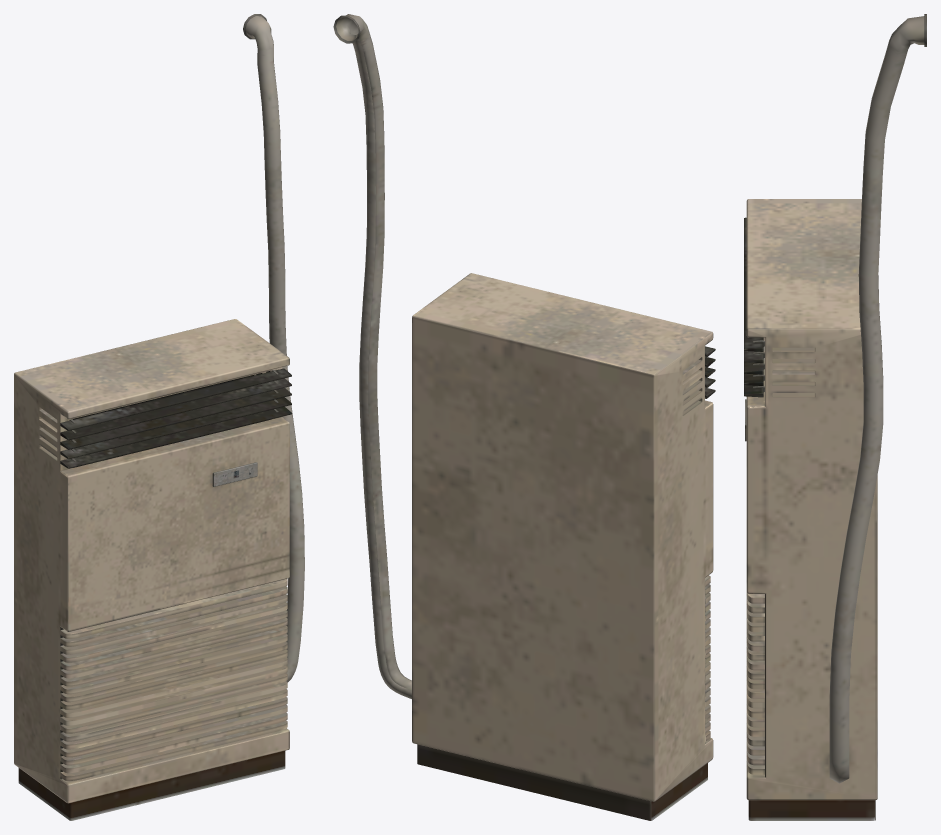
Rendered from 004_OfficeCooler.fbx.
3 views of the same model, side by side, from view 1: azimuth 30°, elevation 25°; view 2: azimuth 150°, elevation 25°; view 3: azimuth 270°, elevation 25° (orthographic). The views are drawn at different scales.
Parts seen in each view (by area): view 1: LOD_1_Group_0_Sub_1__sm31_004_OfficeCooler01A_A_Mat; view 2: LOD_1_Group_0_Sub_1__sm31_004_OfficeCooler01A_A_Mat; view 3: LOD_1_Group_0_Sub_1__sm31_004_OfficeCooler01A_A_Mat.
Boxes of the visible parts, x1,y1,x2,y2 form: LOD_1_Group_0_Sub_1__sm31_004_OfficeCooler01A_A_Mat: [14, 14, 304, 820]; LOD_1_Group_0_Sub_1__sm31_004_OfficeCooler01A_A_Mat: [333, 14, 715, 820]; LOD_1_Group_0_Sub_1__sm31_004_OfficeCooler01A_A_Mat: [744, 14, 926, 820].
Bounding box in the file's own units: 1.42 × 3.36 × 0.6712.
